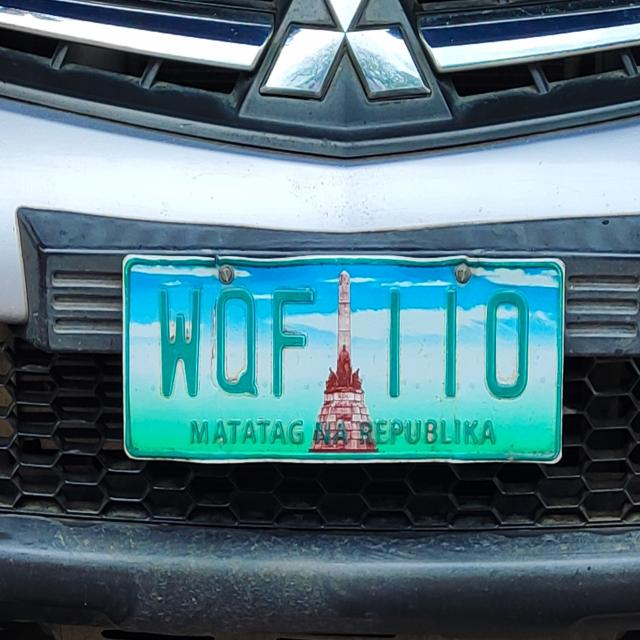plate: (118, 248, 570, 470)
